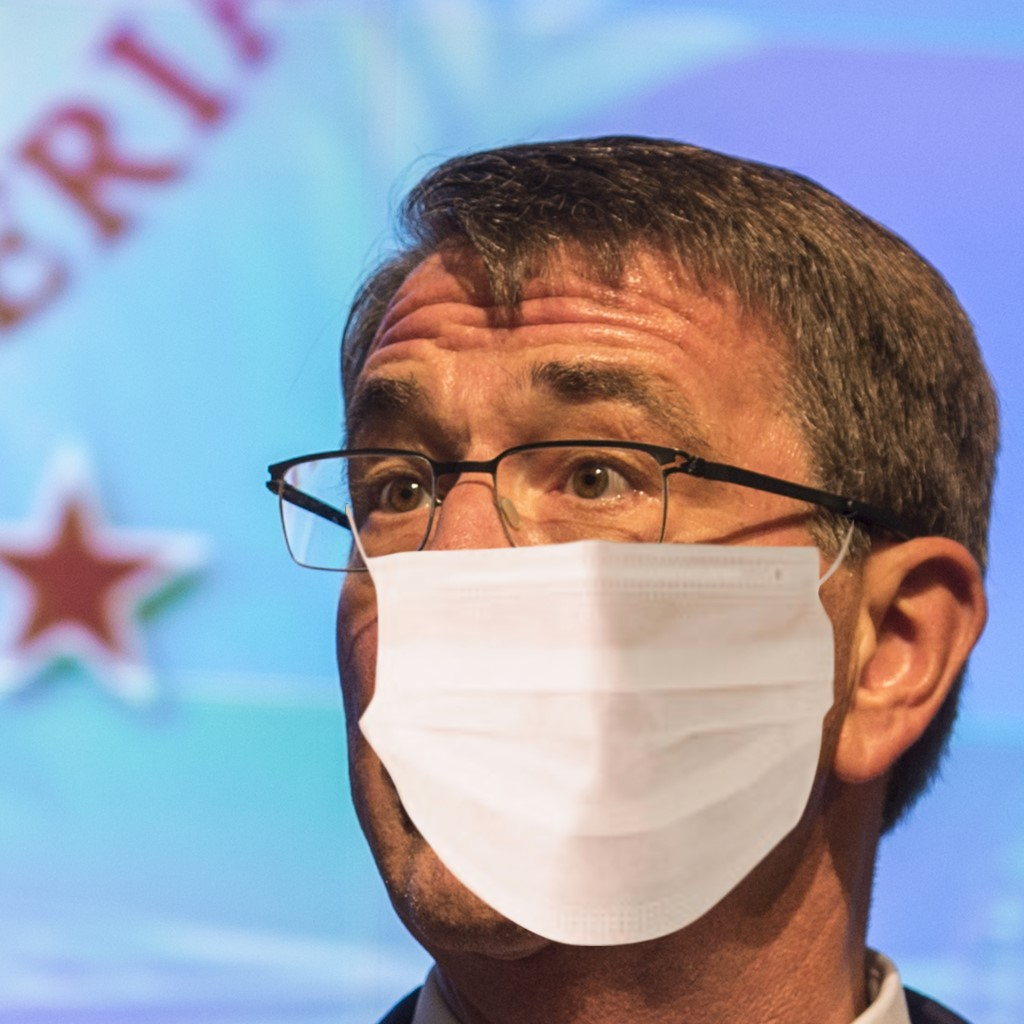con_mascara: (307, 182, 913, 962)
